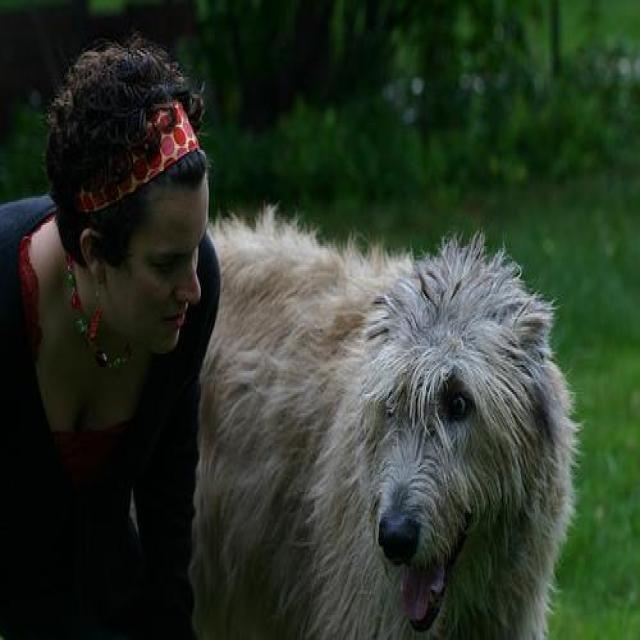irish_wolfhound: (196, 206, 585, 638)
